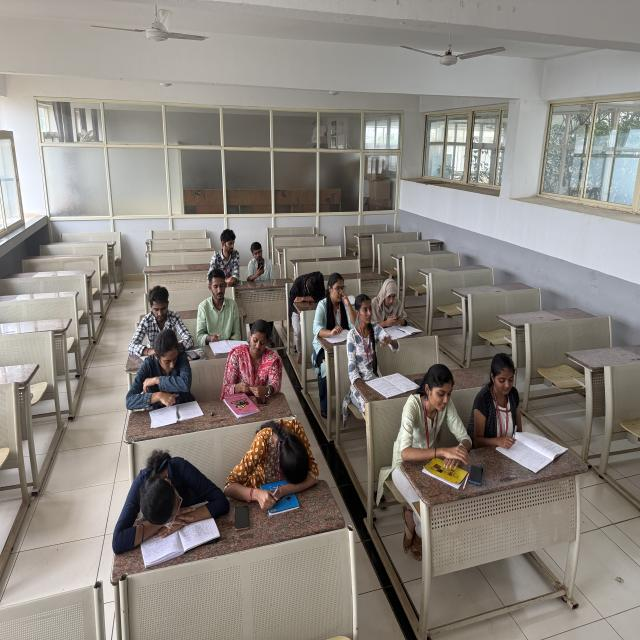Reading: (194, 257, 246, 363)
Sleeping: (97, 444, 224, 548), (231, 399, 343, 488), (273, 256, 334, 311)
Using Phone: (356, 261, 422, 326), (242, 224, 278, 310)
Writing: (298, 194, 379, 396), (468, 350, 548, 461)
